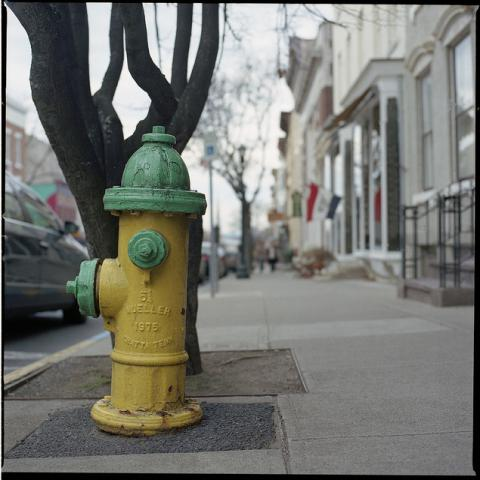car: (5, 174, 90, 272), (4, 257, 86, 328), (198, 239, 228, 286)
